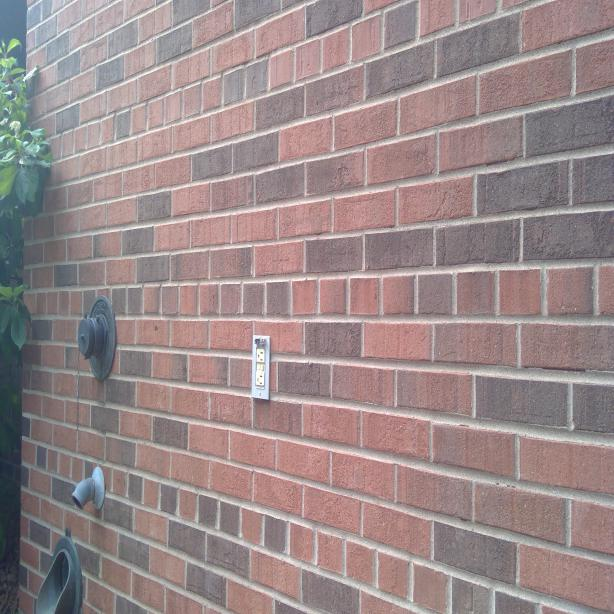typeb: (255, 348, 266, 364), (255, 372, 266, 387)
